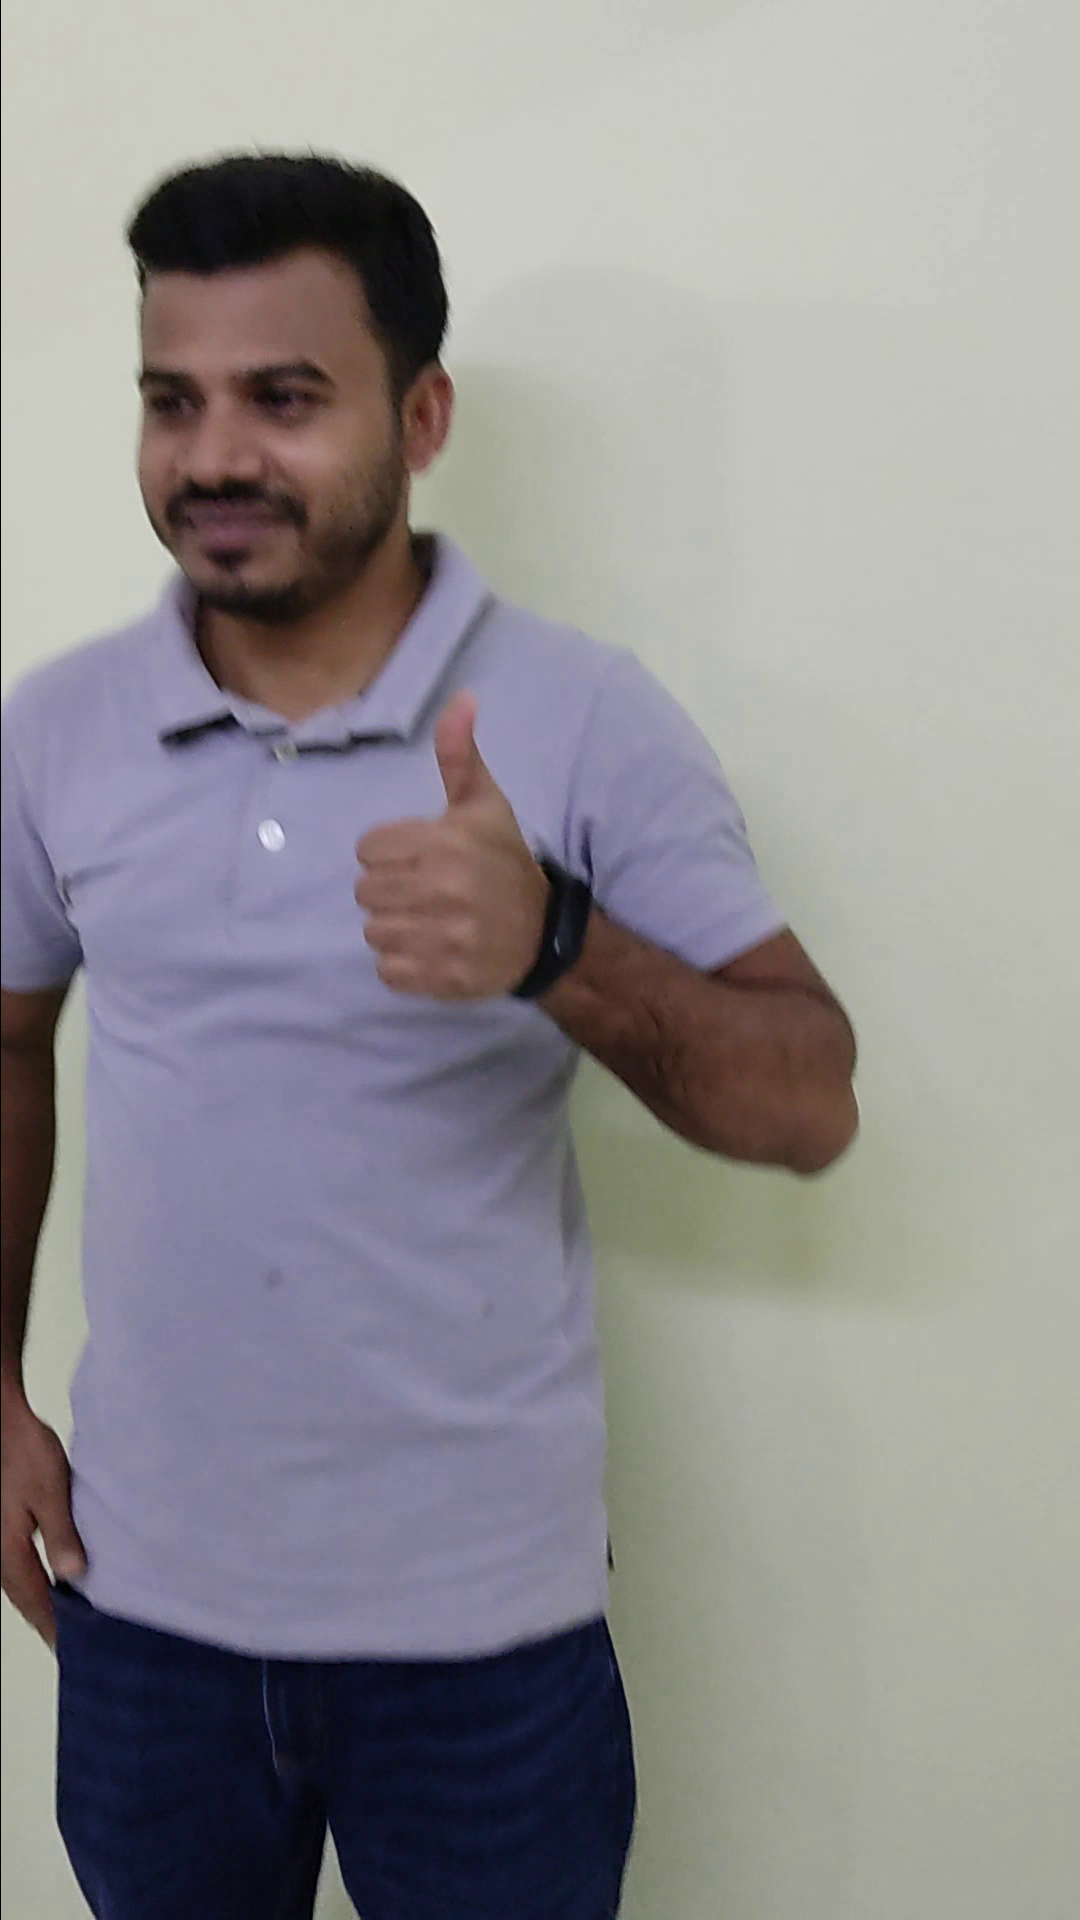Like: (351, 684, 589, 1022)
None: (3, 1382, 105, 1660)
